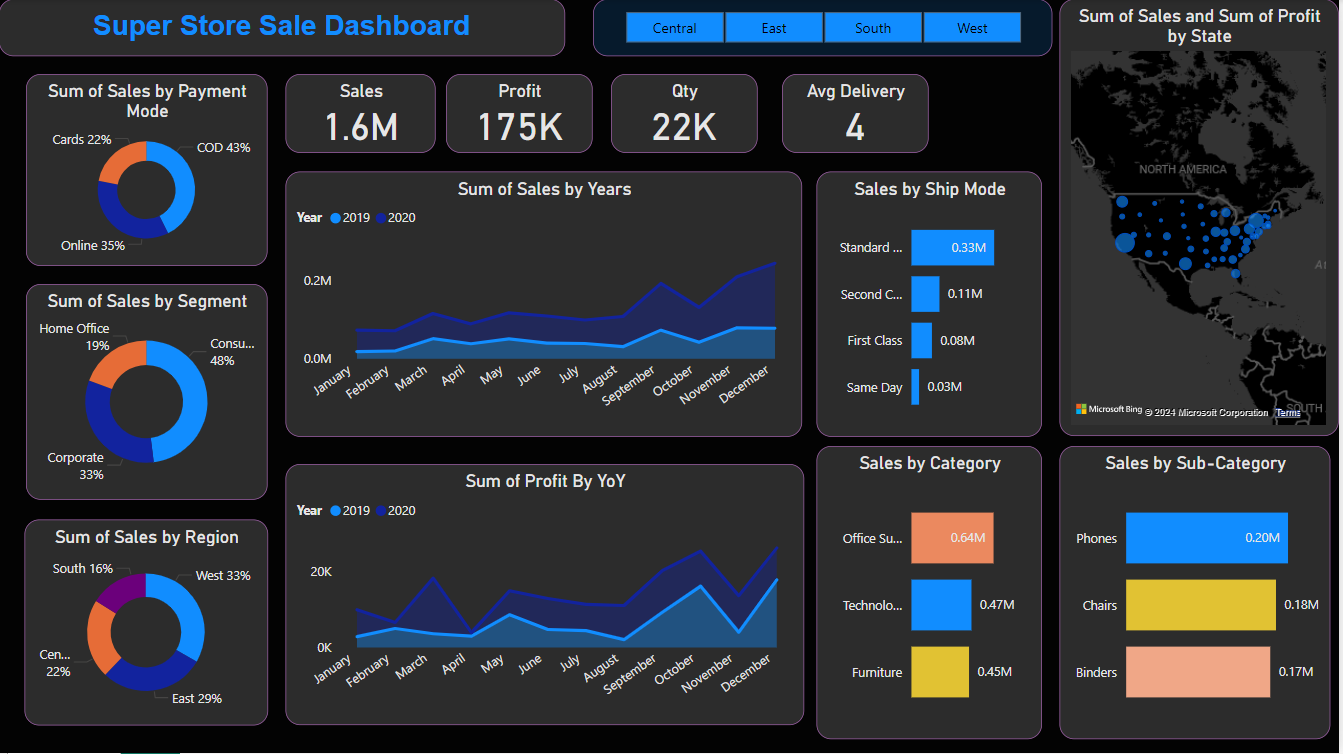

This screenshot's page, from the dashboard's own definition file:
{"tool":"powerbi","page":{"name":"Page 1","canvas":[1280,720],"ordinal":0},"visuals":[{"type":"clusteredBarChart","title":"Sales by Category","fields":{"Category":["SuperStore_Sales_Dataset.Category"],"Y":["Sum(SuperStore_Sales_Dataset.Sales)"]},"box":[780.5,427.1,215.4,279.7],"z":0},{"type":"clusteredBarChart","title":"Sales by Sub-Category","fields":{"Y":["Sum(SuperStore_Sales_Dataset.Sales)"],"Category":["SuperStore_Sales_Dataset.Sub-Category"]},"box":[1012.9,427.1,258.9,279.7],"z":1000},{"type":"clusteredBarChart","title":"Sales by Ship Mode","fields":{"Y":["Sum(SuperStore_Sales_Dataset.Sales)"],"Category":["SuperStore_Sales_Dataset.Ship Mode"]},"box":[780.5,164.4,215.4,253.2],"z":2000},{"type":"stackedAreaChart","title":"Sum of Sales by Years","fields":{"Y":["Sum(SuperStore_Sales_Dataset.Sales)"],"Category":["SuperStore_Sales_Dataset.Order Date.Variation.Date Hierarchy.Month"],"Series":["SuperStore_Sales_Dataset.Order Date.Variation.Date Hierarchy.Year"]},"box":[274,164.4,493.2,253.2],"z":3000},{"type":"stackedAreaChart","title":"Sum of Profit By YoY","fields":{"Category":["SuperStore_Sales_Dataset.Order Date.Variation.Date Hierarchy.Month"],"Series":["SuperStore_Sales_Dataset.Order Date.Variation.Date Hierarchy.Year"],"Y":["Sum(SuperStore_Sales_Dataset.Profit)"]},"box":[274,444.1,495.1,249.5],"z":4000},{"type":"map","fields":{"Category":["SuperStore_Sales_Dataset.State"],"Size":["Sum(SuperStore_Sales_Dataset.Sales)"]},"box":[1012.9,0,266.5,417.6],"z":5000},{"type":"donutChart","fields":{"Category":["SuperStore_Sales_Dataset.Segment"],"Y":["Sum(SuperStore_Sales_Dataset.Sales)"]},"box":[26.5,272.1,230.6,206],"z":6000},{"type":"donutChart","fields":{"Category":["SuperStore_Sales_Dataset.Region"],"Y":["Sum(SuperStore_Sales_Dataset.Sales)"]},"box":[24.6,497,232.4,196.5],"z":7000},{"type":"donutChart","fields":{"Y":["Sum(SuperStore_Sales_Dataset.Sales)"],"Category":["SuperStore_Sales_Dataset.Payment Mode"]},"box":[26.5,71.8,230.6,183.3],"z":8000},{"type":"slicer","fields":{"Values":["SuperStore_Sales_Dataset.Region"]},"box":[566.9,0,438.4,54.8],"z":9000},{"type":"textbox","box":[0,0,540.5,54.8],"z":10000},{"type":"card","title":"Sales","fields":{"Values":["Sum(SuperStore_Sales_Dataset.Sales)"]},"box":[274,71.8,143.6,75.6],"z":11000},{"type":"card","title":"Profit","fields":{"Values":["Sum(SuperStore_Sales_Dataset.Profit)"]},"box":[427.1,71.8,139.8,75.6],"z":11001},{"type":"card","title":"Qty","fields":{"Values":["Sum(SuperStore_Sales_Dataset.Quantity)"]},"box":[583.9,71.8,139.8,75.6],"z":11002},{"type":"card","title":"Avg Delivery ","fields":{"Values":["Avg(SuperStore_Sales_Dataset.AverageDelivery)"]},"box":[748.4,71.8,139.8,75.6],"z":11003}]}

Visuals, with their boxes in screenshot pixels (x1, y1, x2, y2), scaled from the page's 1280x720 canvas onto the 1343x754 screenshot:
"Sales by Category" clusteredBarChart: {"x1": 819, "y1": 447, "x2": 1045, "y2": 740}
"Sales by Sub-Category" clusteredBarChart: {"x1": 1063, "y1": 447, "x2": 1334, "y2": 740}
"Sales by Ship Mode" clusteredBarChart: {"x1": 819, "y1": 172, "x2": 1045, "y2": 437}
"Sum of Sales by Years" stackedAreaChart: {"x1": 287, "y1": 172, "x2": 805, "y2": 437}
"Sum of Profit By YoY" stackedAreaChart: {"x1": 287, "y1": 465, "x2": 807, "y2": 726}
map - SuperStore_Sales_Dataset.State x Sum(SuperStore_Sales_Dataset.Sales): {"x1": 1063, "y1": 0, "x2": 1342, "y2": 437}
donutChart - SuperStore_Sales_Dataset.Segment x Sum(SuperStore_Sales_Dataset.Sales): {"x1": 28, "y1": 285, "x2": 270, "y2": 501}
donutChart - SuperStore_Sales_Dataset.Region x Sum(SuperStore_Sales_Dataset.Sales): {"x1": 26, "y1": 520, "x2": 270, "y2": 726}
donutChart - Sum(SuperStore_Sales_Dataset.Sales) x SuperStore_Sales_Dataset.Payment Mode: {"x1": 28, "y1": 75, "x2": 270, "y2": 267}
slicer - SuperStore_Sales_Dataset.Region: {"x1": 595, "y1": 0, "x2": 1055, "y2": 57}
textbox: {"x1": 0, "y1": 0, "x2": 567, "y2": 57}
"Sales" card: {"x1": 287, "y1": 75, "x2": 438, "y2": 154}
"Profit" card: {"x1": 448, "y1": 75, "x2": 595, "y2": 154}
"Qty" card: {"x1": 613, "y1": 75, "x2": 759, "y2": 154}
"Avg Delivery " card: {"x1": 785, "y1": 75, "x2": 932, "y2": 154}
